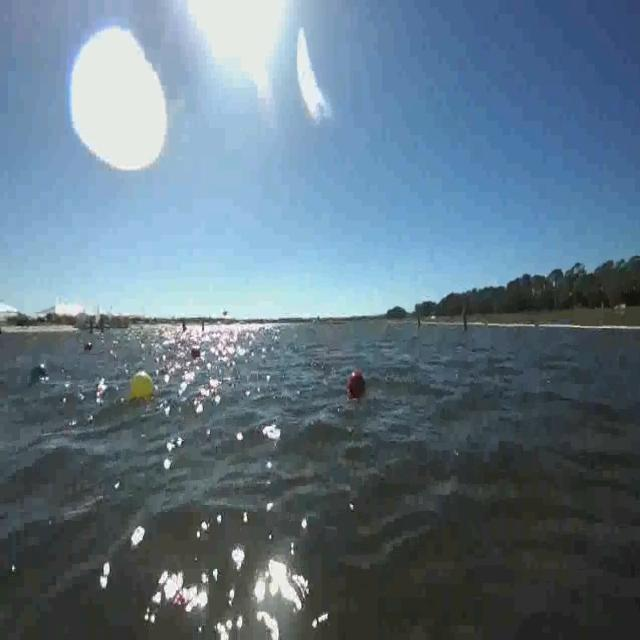red-buoy: (347, 367, 367, 402)
yellow-buoy: (130, 370, 156, 402)
